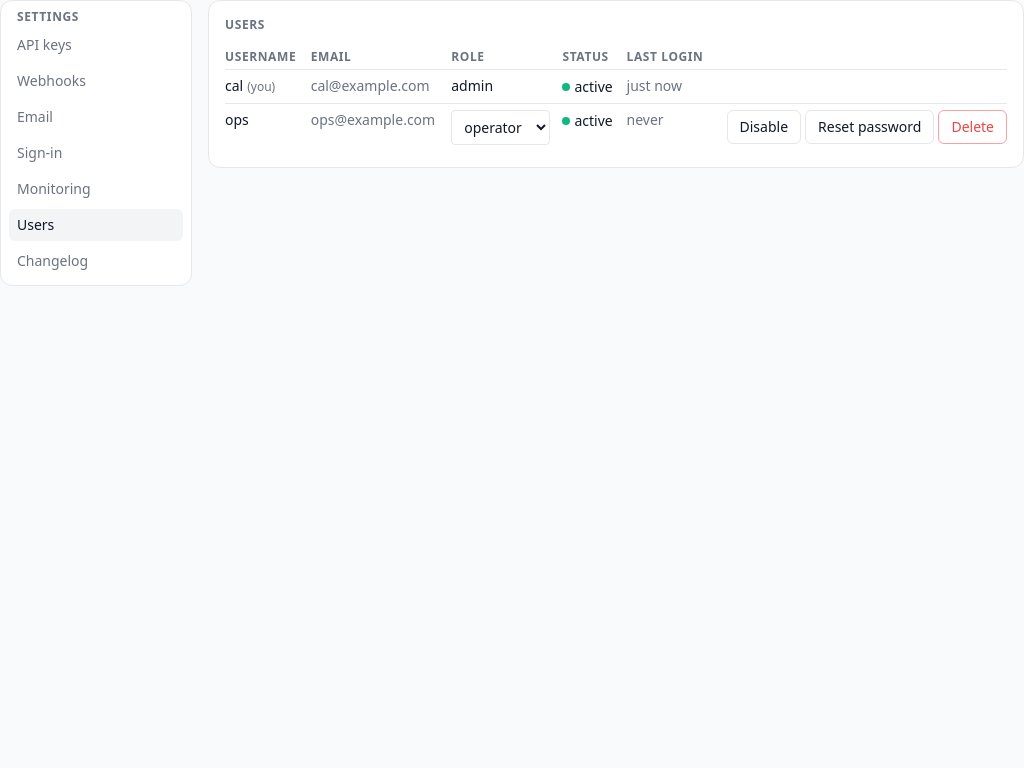
Scenario: Users (AC-017) › disables a user with a toast
Click the button "Disable".
click(764, 127)  # box [726,110,801,144]
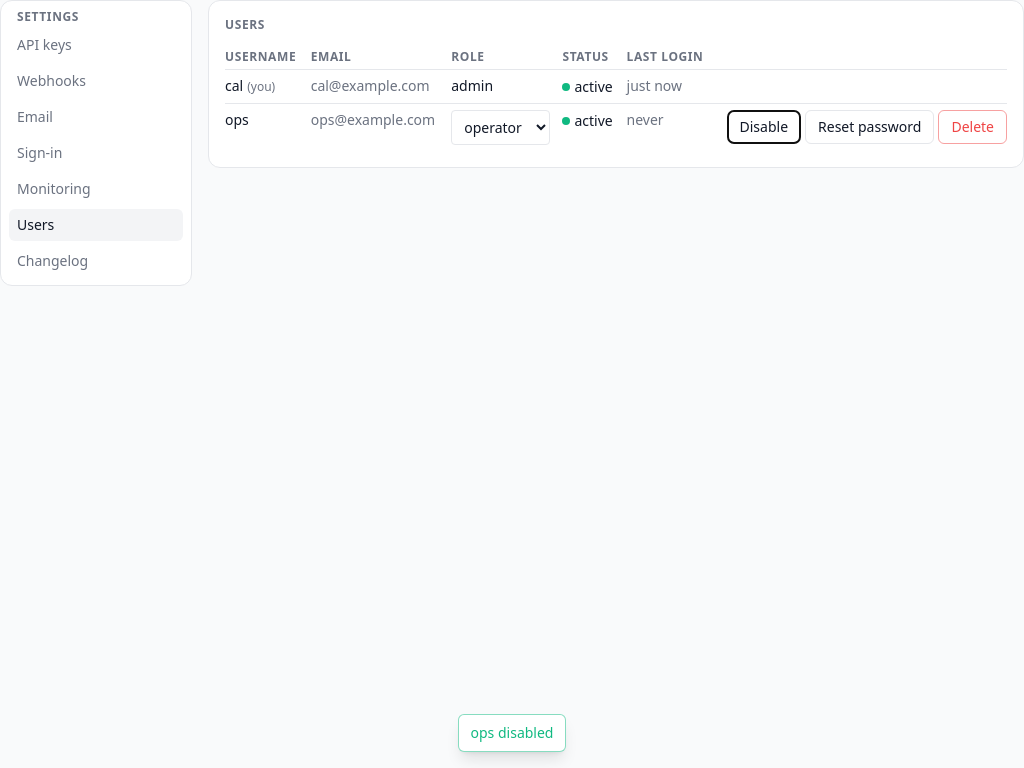
Check: the message with test id "toast" reads "ops disabled", box [470,723,553,742]
